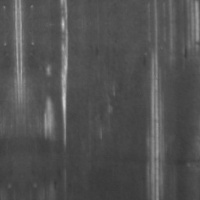scratches: (140, 46, 170, 199), (55, 25, 74, 151)
